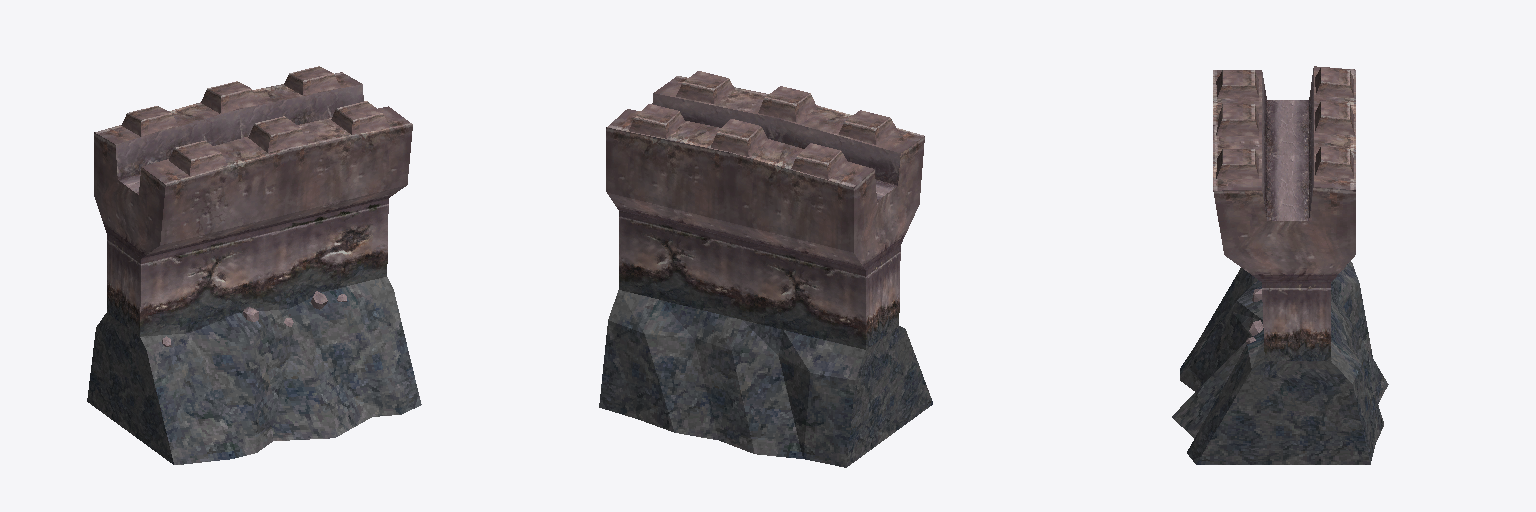
3 views of the same model, side by side, from view 1: azimuth 30°, elevation 25°; view 2: azimuth 150°, elevation 25°; view 3: azimuth 270°, elevation 25° (orthographic).
Visible parts, largest first — view 1: Node 0; view 2: Node 0; view 3: Node 0.
Part boxes in pixels (bbox=[...]): Node 0: bbox=[87, 66, 421, 464]; Node 0: bbox=[599, 71, 932, 467]; Node 0: bbox=[1172, 66, 1388, 464].
Size of the model in its own units: 10 by 11.48 by 7.6.
3 materials, 3 textured.